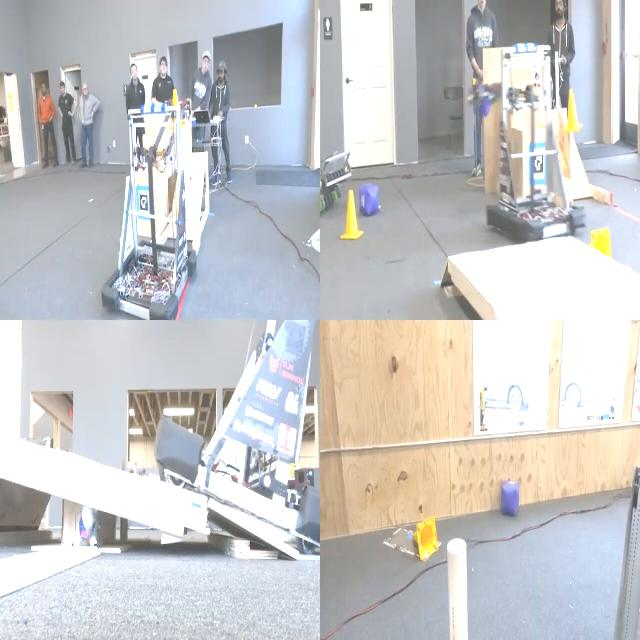frc_cone: (336, 188, 362, 248), (412, 516, 441, 556), (563, 88, 582, 136), (590, 227, 613, 260), (169, 79, 182, 129)
frc_cube: (361, 174, 381, 218), (498, 479, 522, 514)
